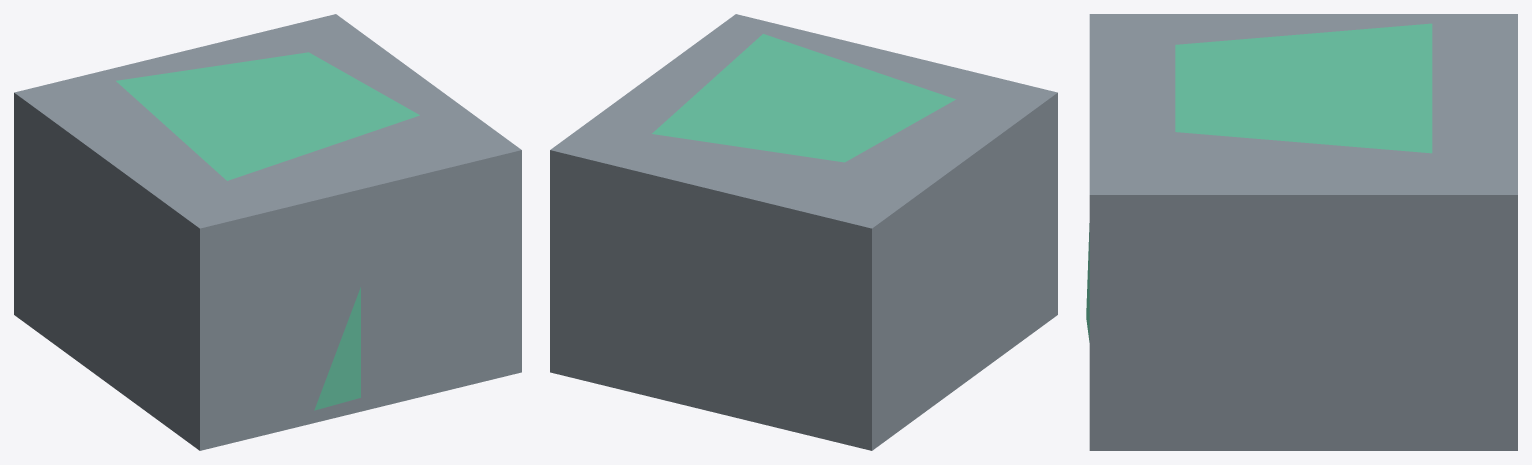
File: CO_ShieldHub_LOD1.glb
The picture shows the model from 3 angles, left to right: view 1: azimuth 30°, elevation 25°; view 2: azimuth 150°, elevation 25°; view 3: azimuth 270°, elevation 25°; orthographic projection. The views are drawn at different scales.
Visible parts, largest first — view 1: EntranceGate; view 2: EntranceGate; view 3: EntranceGate.
Part boxes in pixels (x1=…): EntranceGate: x1=14, y1=14, x2=521, y2=450; EntranceGate: x1=550, y1=14, x2=1057, y2=450; EntranceGate: x1=1086, y1=14, x2=1517, y2=450.
Bounding box in the file's own units: 400 × 292 × 403.
